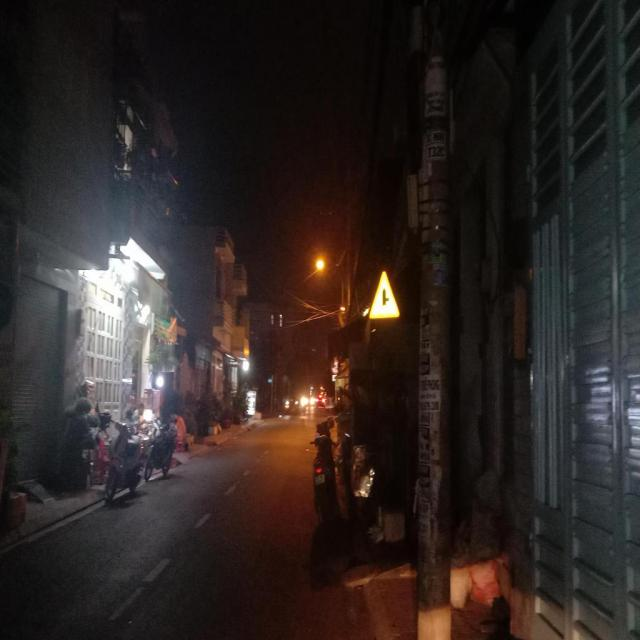giao_nhau_voi_duong_khong_uu_tien: (367, 266, 401, 319)
